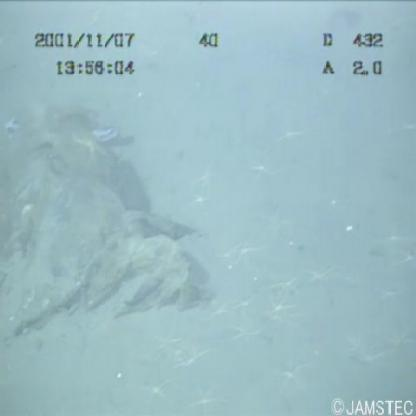Rác: (1, 110, 205, 344)
